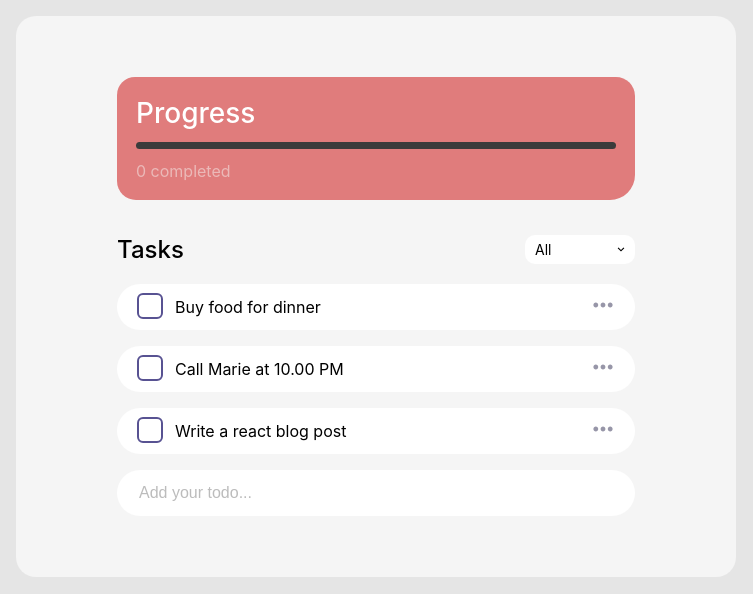
it: should delete a todo
Expected: the number of elements with test id "todo-item" is 3, [117,284,635,330]; [117,346,635,392]; [117,408,635,454]
Click the picture with alt text "Task Options" in the row of "Buy food for dinner": (603, 305) [591,293,615,317]
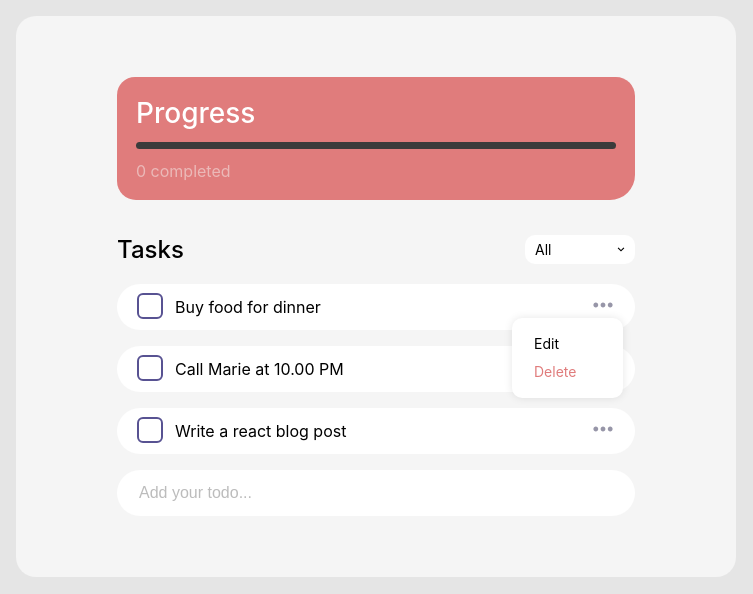
Click the button "Delete": (555, 372) [534,363,576,380]
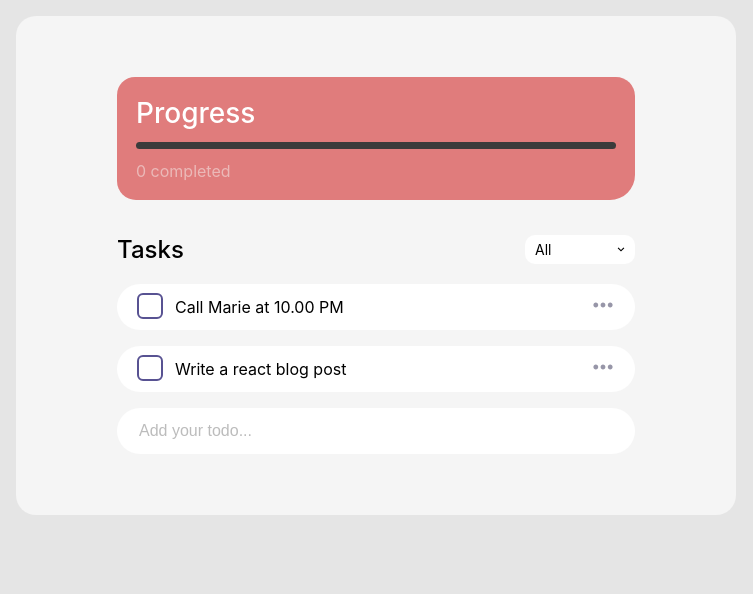
Expected: the number of elements with test id "todo-item" is 2, [117,284,635,330]; [117,346,635,392]
